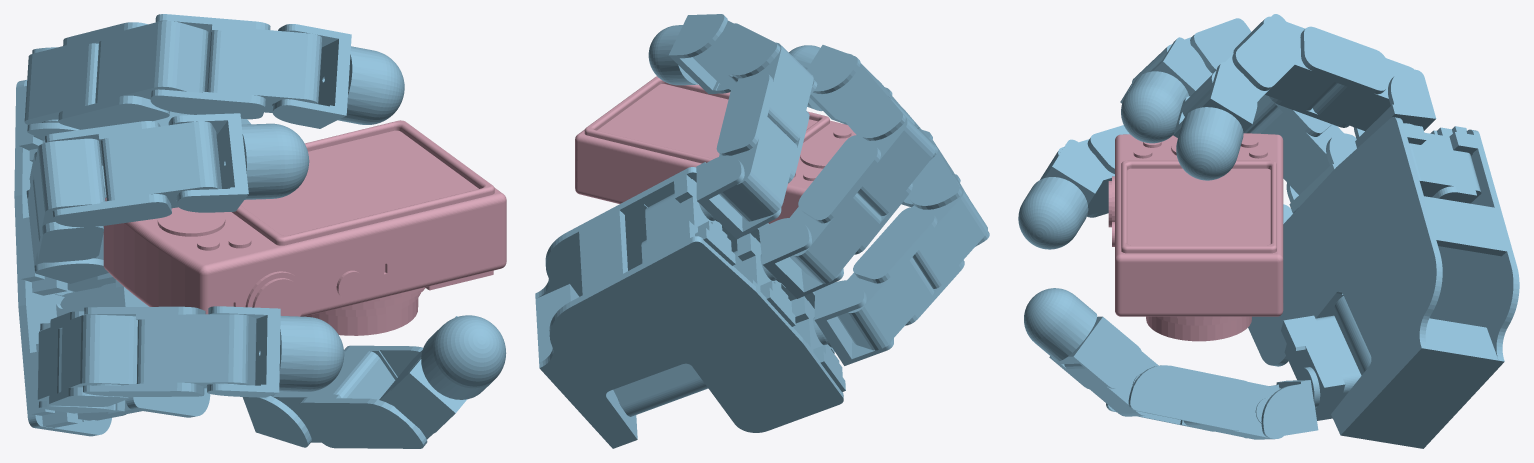
The picture shows the model from 3 angles, left to right: view 1: azimuth 30°, elevation 25°; view 2: azimuth 150°, elevation 25°; view 3: azimuth 270°, elevation 25°; orthographic projection. The views are drawn at different scales.
Parts seen in each view (by area): view 1: world, camera.stl; view 2: world, camera.stl; view 3: world, camera.stl.
Part boxes in pixels (box(x1,y1,x2,y2)): world: box(14, 14, 506, 448); camera.stl: box(103, 120, 506, 335); world: box(535, 14, 989, 448); camera.stl: box(575, 76, 856, 223); world: box(1018, 14, 1519, 448); camera.stl: box(1108, 133, 1283, 341).
Bounding box in the file's own units: 0.1553 × 0.1648 × 0.1927.
